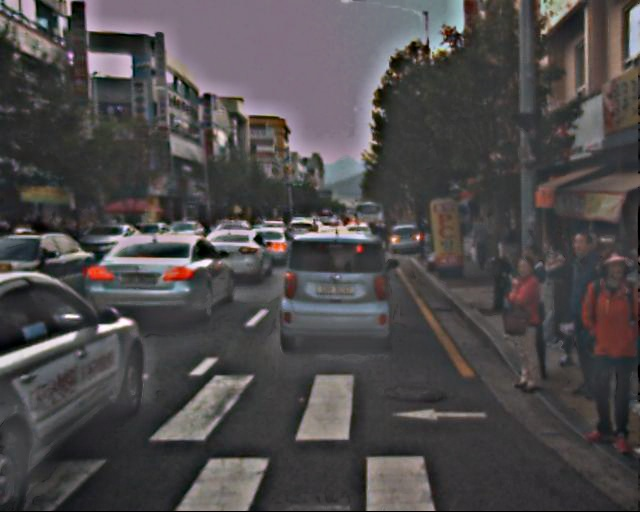person: (570, 251, 640, 452), (549, 230, 619, 400), (498, 257, 554, 393), (527, 240, 578, 365), (469, 214, 491, 268)
